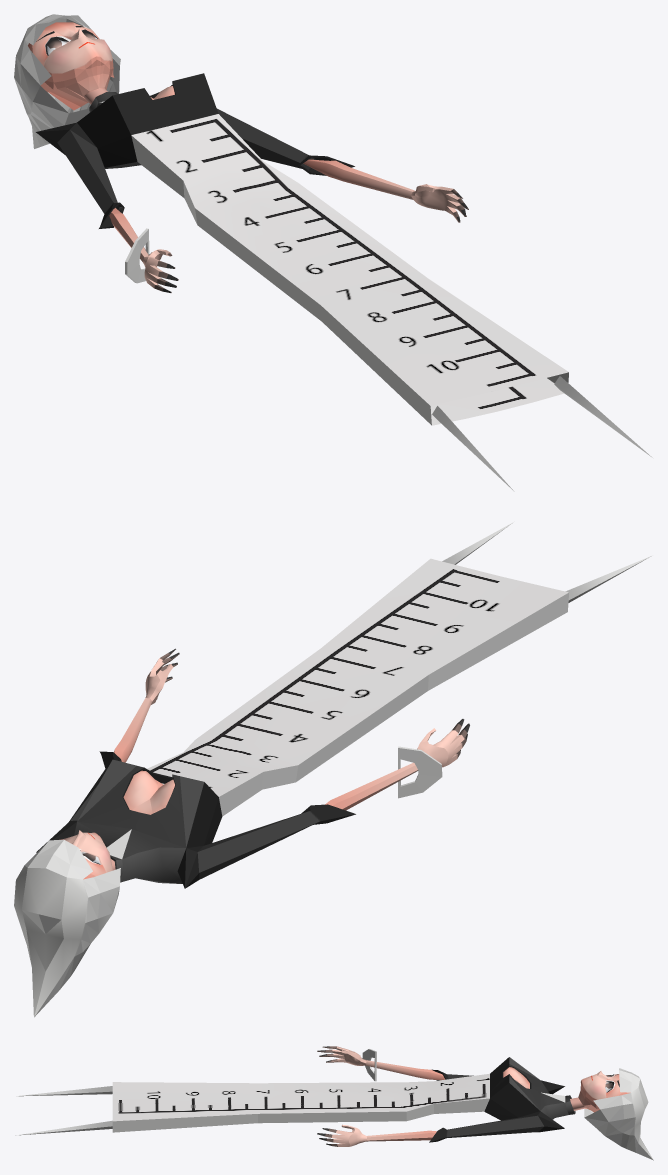
Rendered from juzhizi.FBX.
3 views of the same model, one above another, from view 1: azimuth 30°, elevation 25°; view 2: azimuth 150°, elevation 25°; view 3: azimuth 270°, elevation 25° (orthographic). The views are drawn at different scales.
Parts seen in each view (by area): view 1: Object005; view 2: Object005; view 3: Object005.
Part boxes in pixels (x1,y1,x2,y2): Object005: (14, 14, 652, 491); Object005: (14, 521, 652, 1017); Object005: (15, 1046, 653, 1160).
Size of the model in its own units: 929 by 445 by 2849.
1 material, 1 textured.
